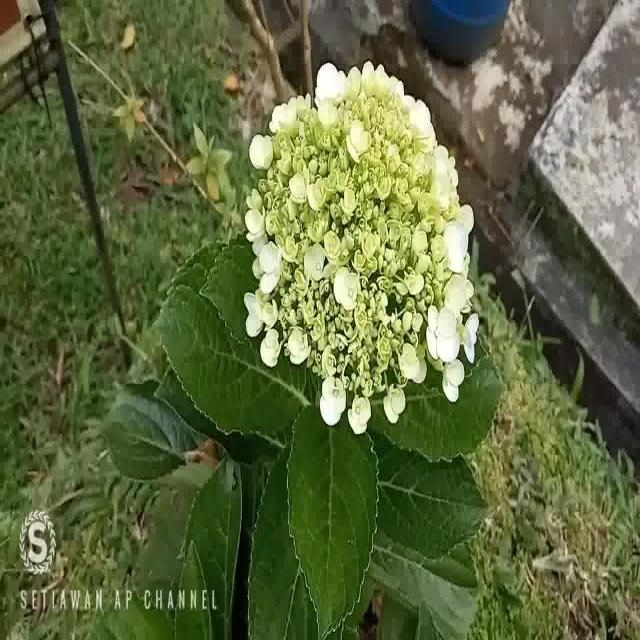Flower: (242, 54, 484, 439)
